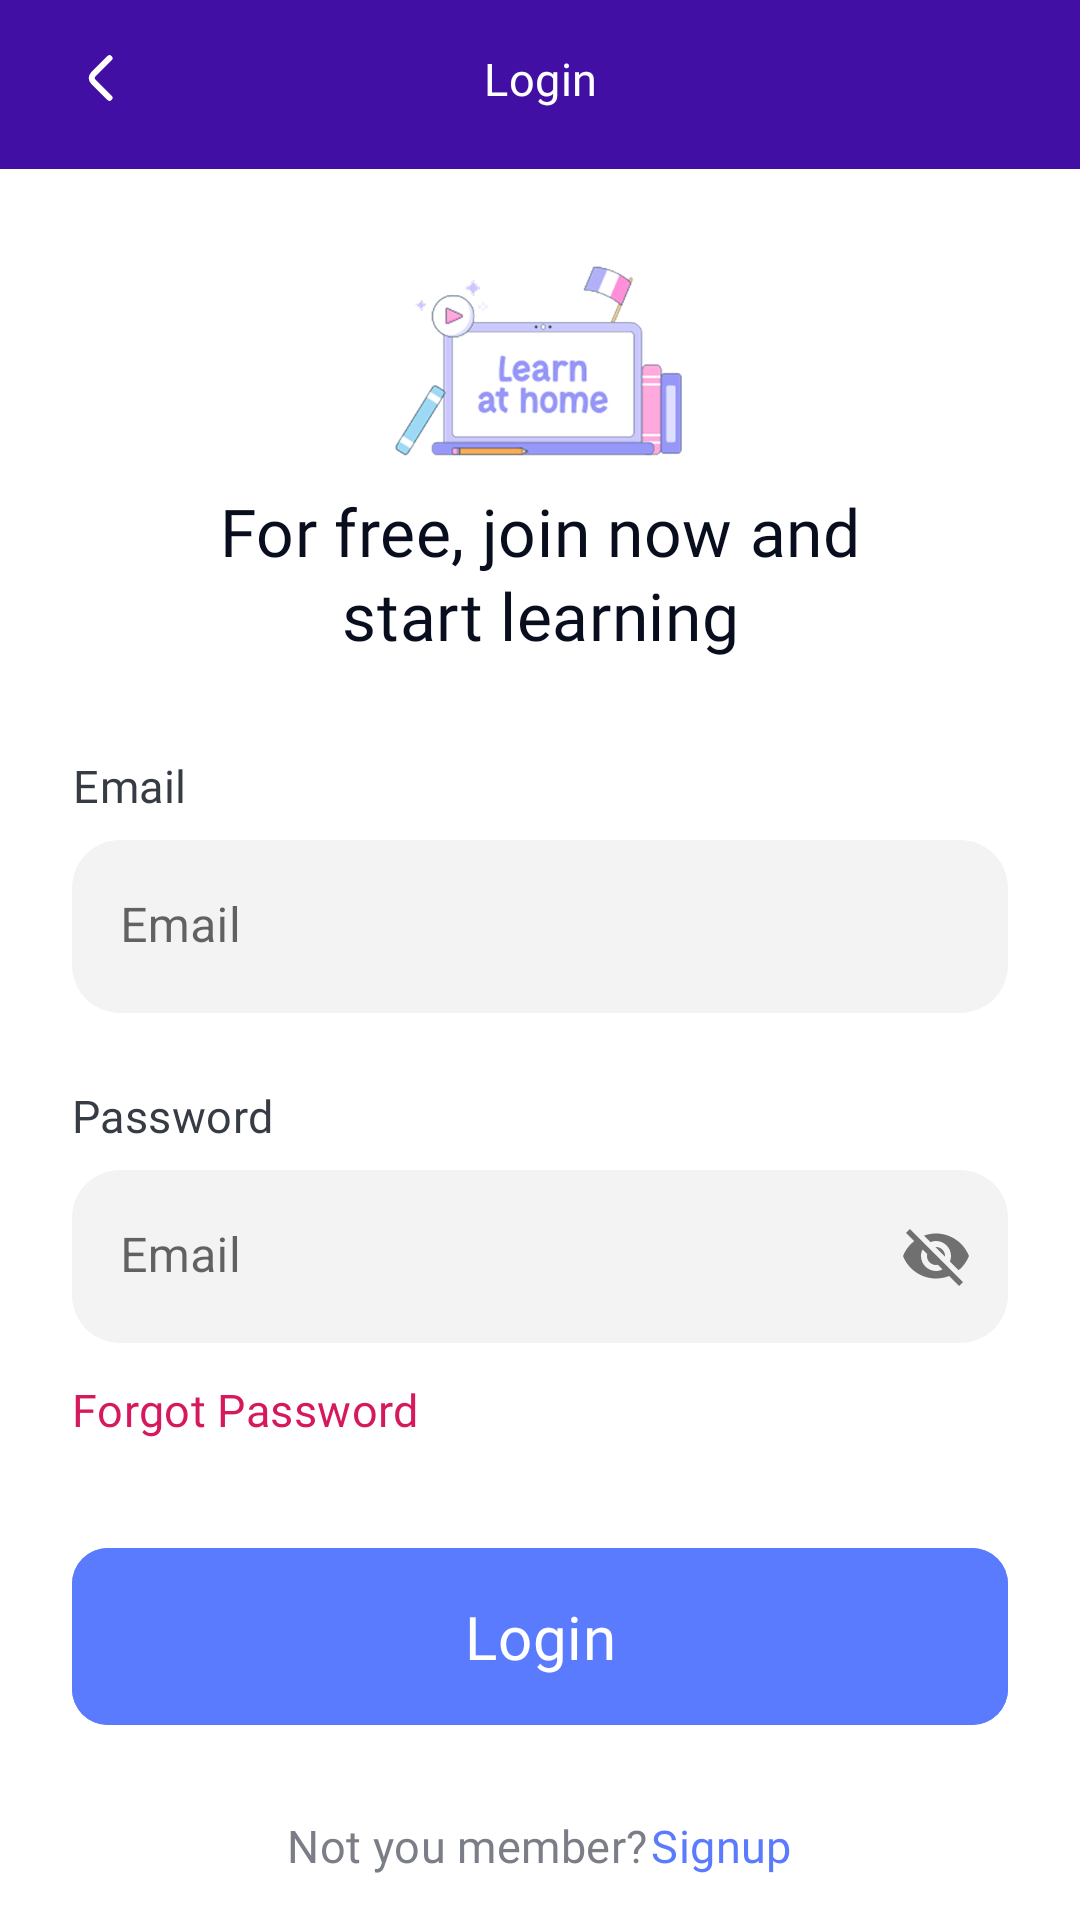

Locate icon controls on the screen. Image size 1080×1920, boxes as [x1,y1,x2,y2].
back: [88,55,113,101]
